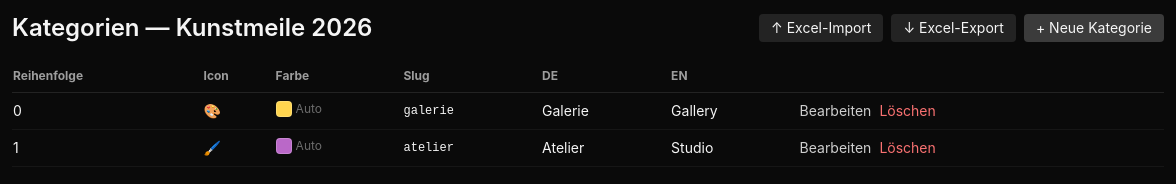
Test: CategoryListPage › lets the user back out of a delete confirmation
Check: the text "Galerie" is shown, box [541, 92, 670, 130]
Click the button "Löschen" in the row of "Gallery". click: (908, 111)
box: [879, 101, 936, 121]
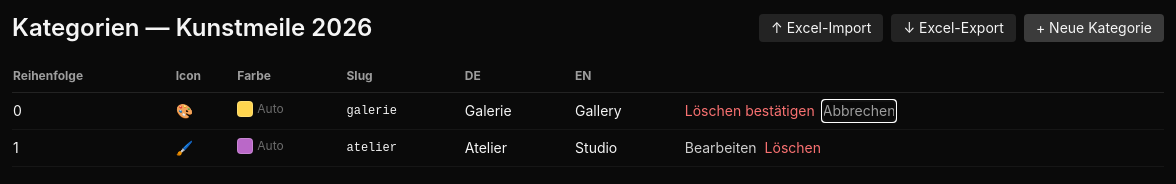
Check: the button "Löschen bestätigen" is shown, box [685, 101, 815, 121]
Click the button "Abbrechen". click: (859, 111)
box: [823, 101, 896, 121]
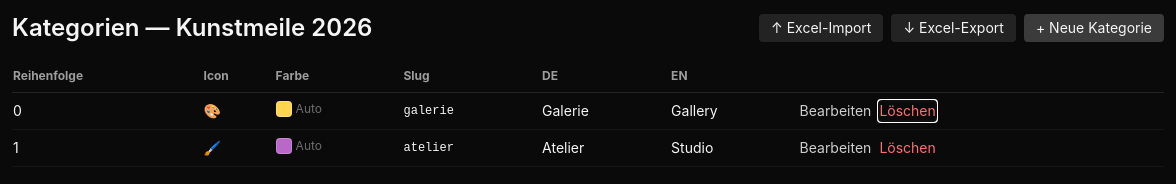
Check: the button "Löschen bestätigen" is gone
